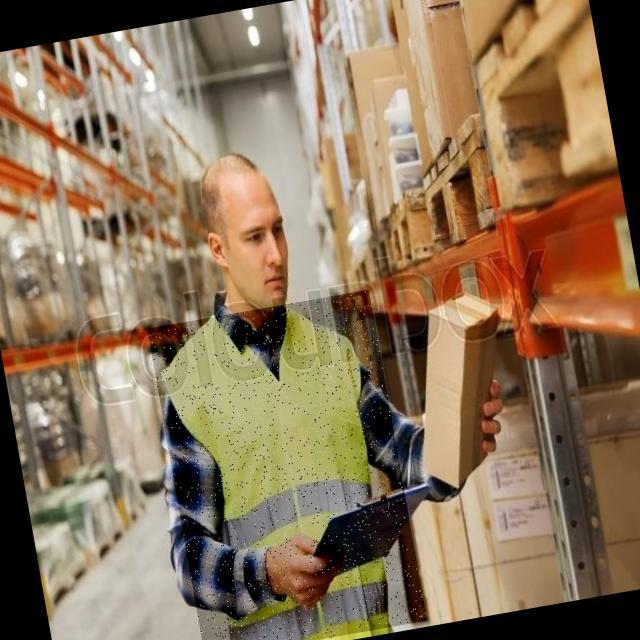Person: (117, 125, 515, 640)
Safety Vest: (147, 289, 427, 640)
no-helmet: (193, 150, 285, 211)
